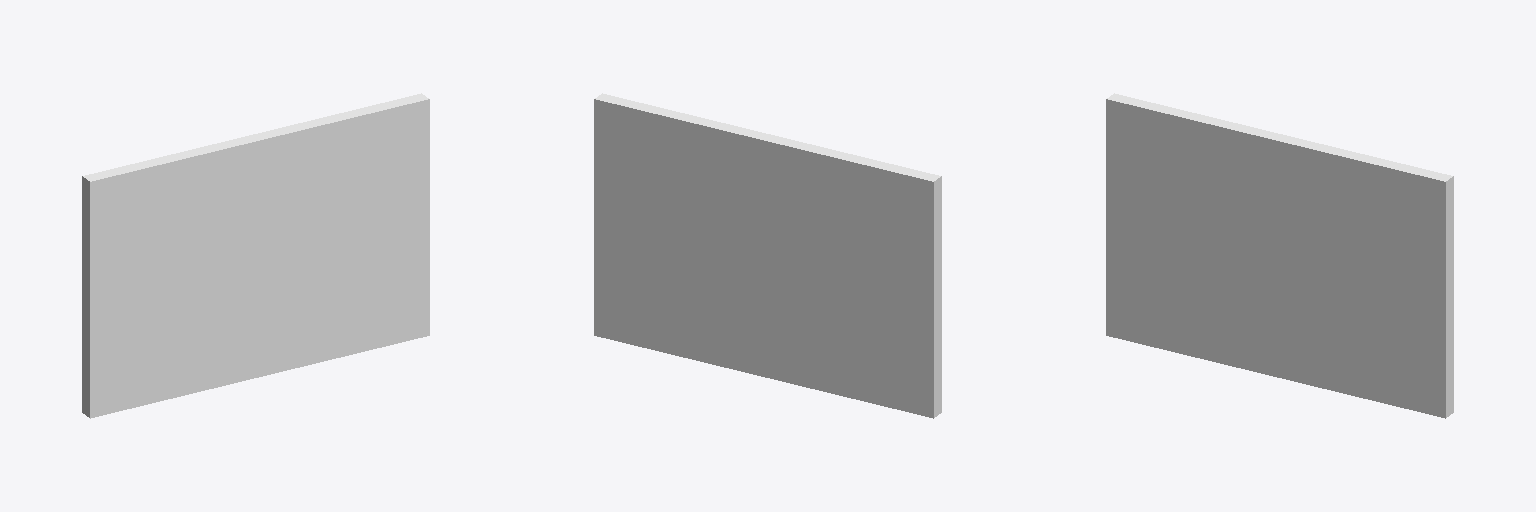
File: wall_brick.obj
3 renders of one model, left to right at view 1: azimuth 30°, elevation 25°; view 2: azimuth 150°, elevation 25°; view 3: azimuth 330°, elevation 25°, orthographic.
Bounding box in the file's own units: 126 × 84 × 5.